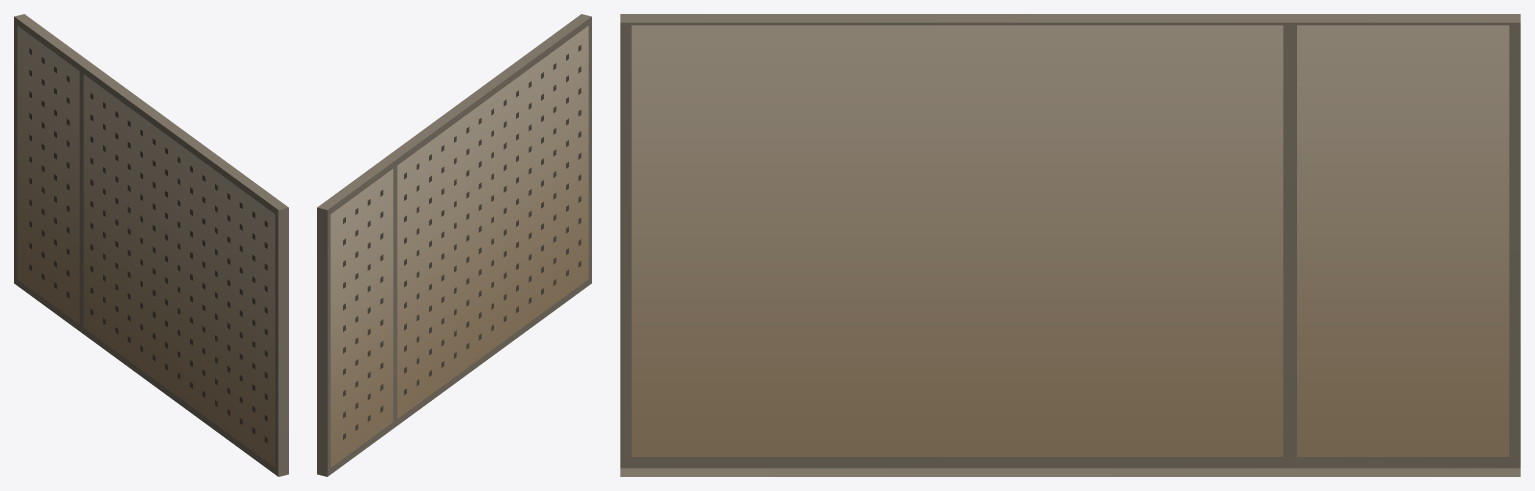
File: WallStand_Long.fbx
3 views of the same model, side by side, from view 1: azimuth 30°, elevation 25°; view 2: azimuth 150°, elevation 25°; view 3: azimuth 270°, elevation 25° (orthographic). The views are drawn at different scales.
Parts seen in each view (by area): view 1: WallStand_Long, WallStand_Long_Holes; view 2: WallStand_Long, WallStand_Long_Holes; view 3: WallStand_Long.
Part boxes in pixels (left/top/right/bottom): WallStand_Long: left=14, top=14, right=288, bottom=476; WallStand_Long_Holes: left=29, top=48, right=267, bottom=443; WallStand_Long: left=317, top=14, right=591, bottom=476; WallStand_Long_Holes: left=343, top=45, right=581, bottom=439; WallStand_Long: left=620, top=14, right=1520, bottom=476.
Size of the model in its own units: 9.74 by 235 by 423.
